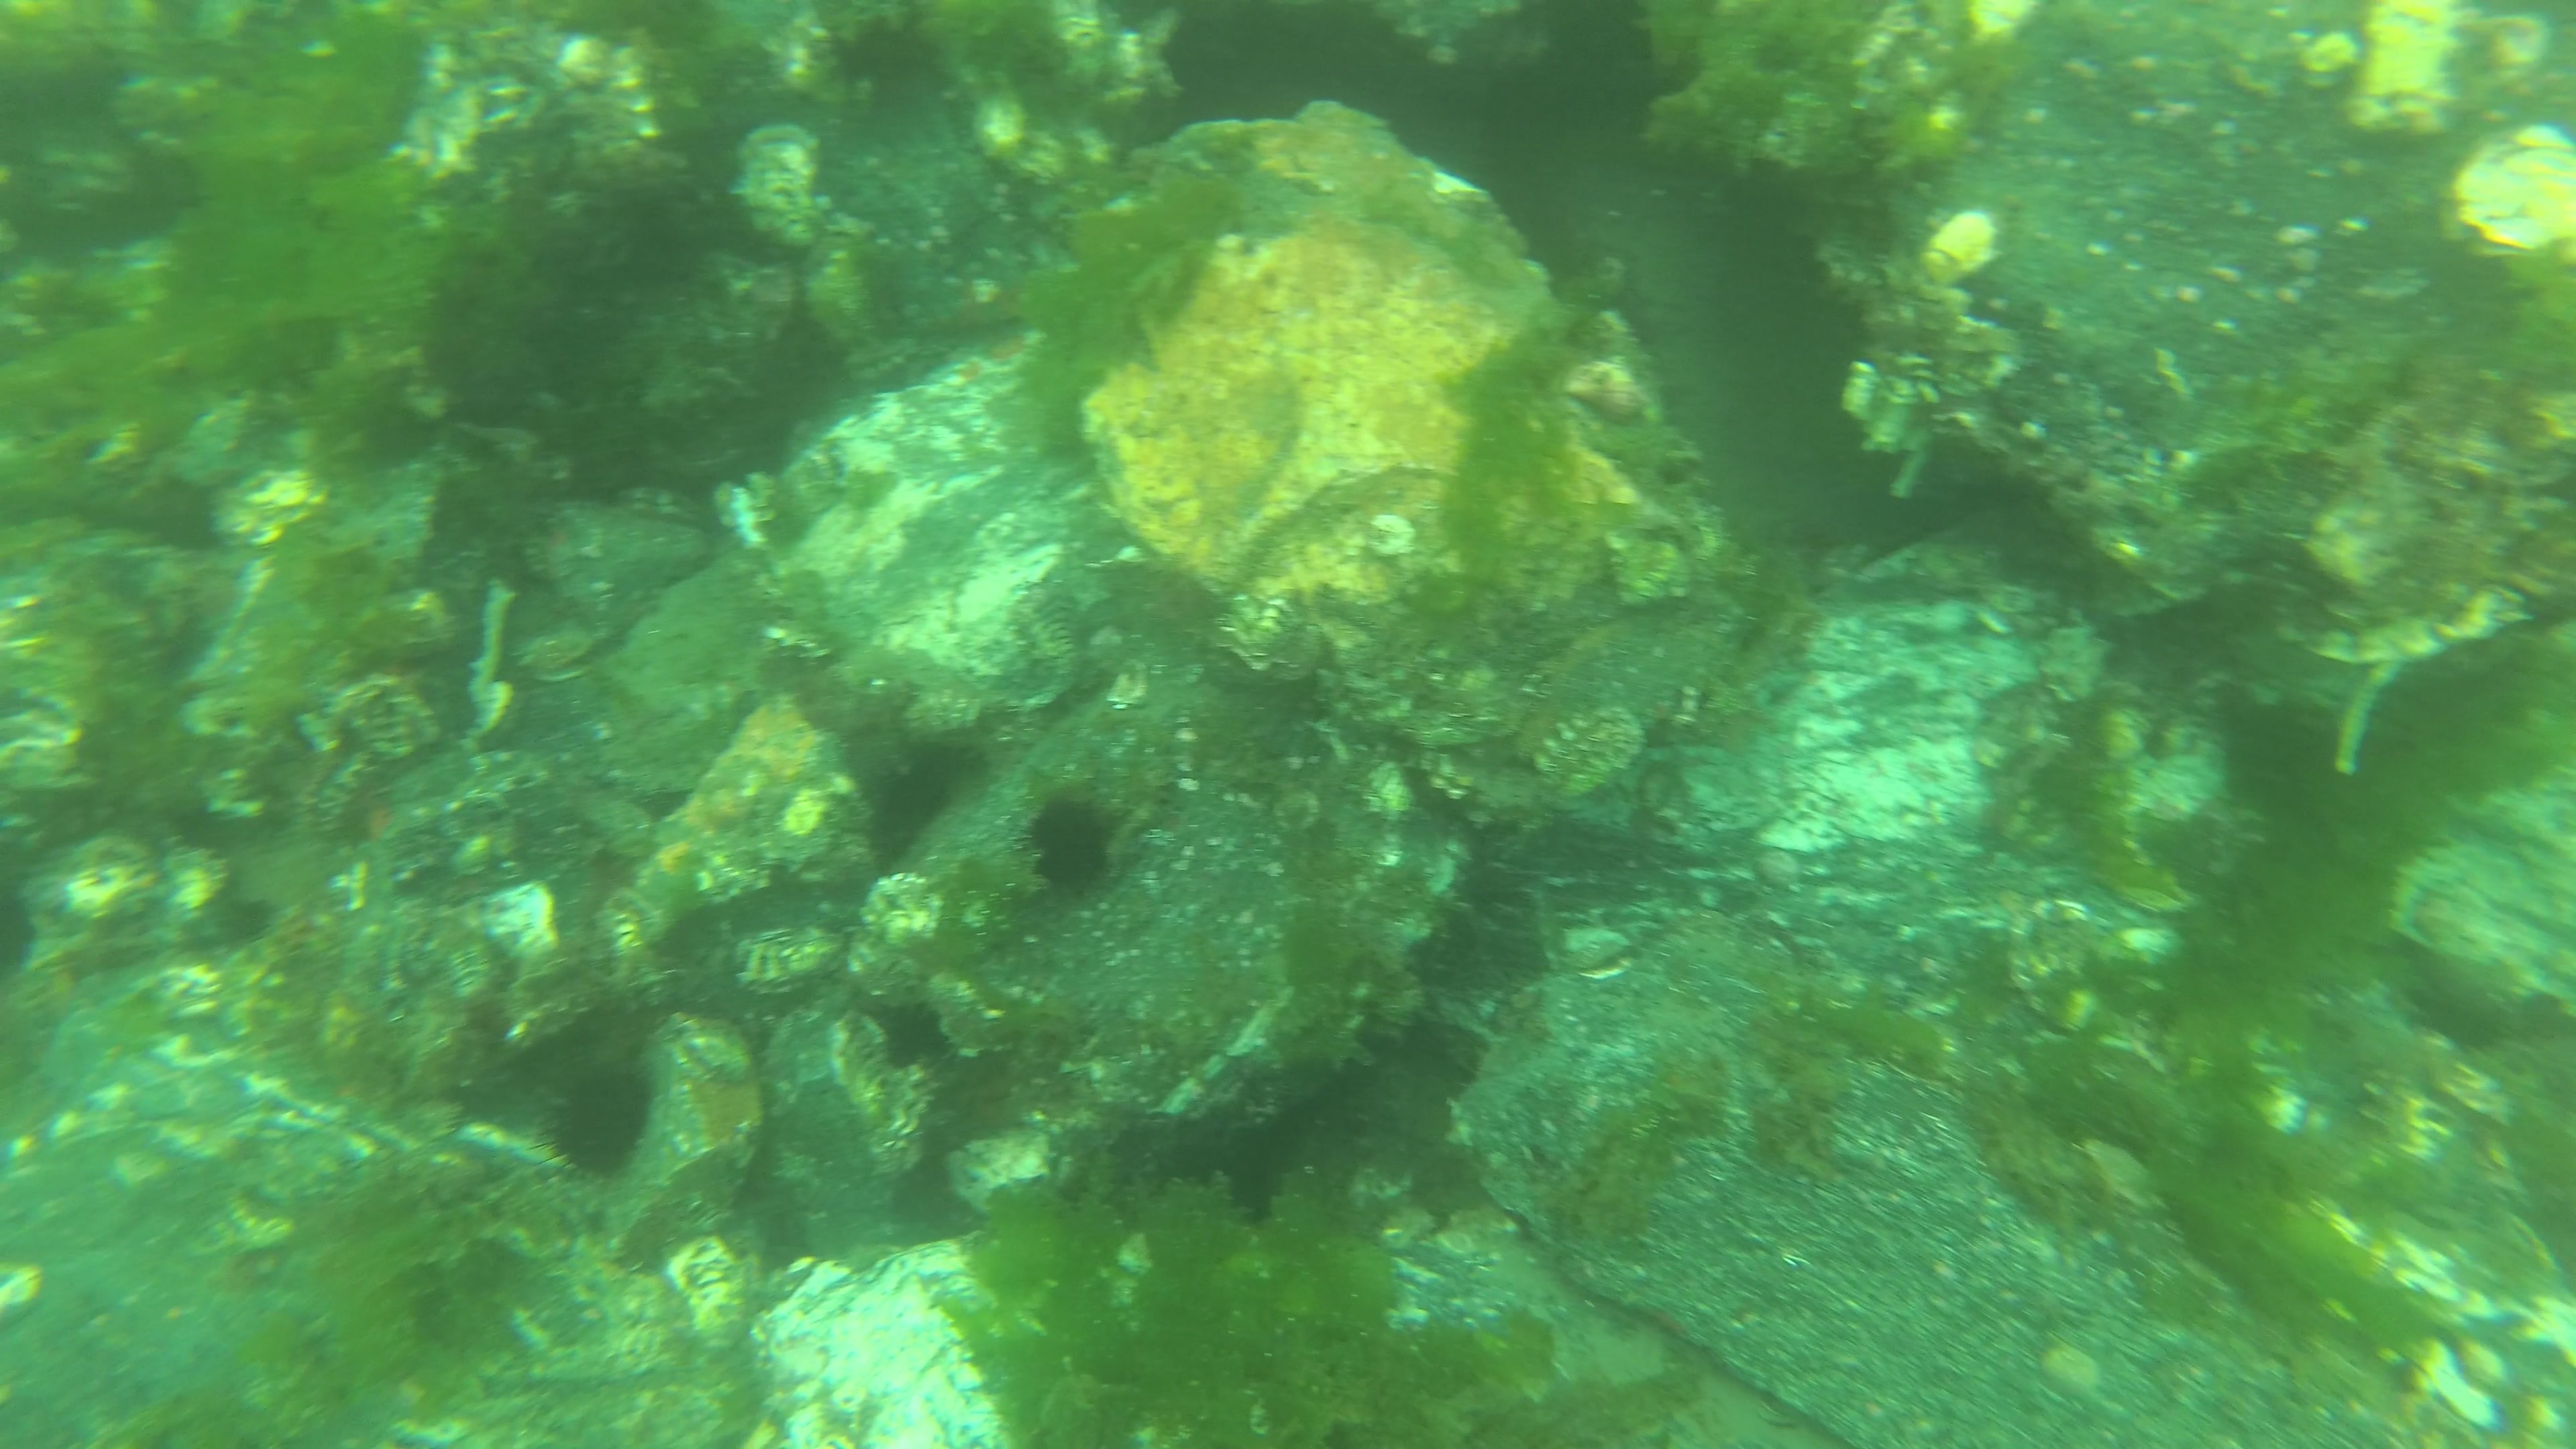echinus: (543, 1067, 649, 1182), (1028, 805, 1120, 897), (879, 1008, 947, 1067)
